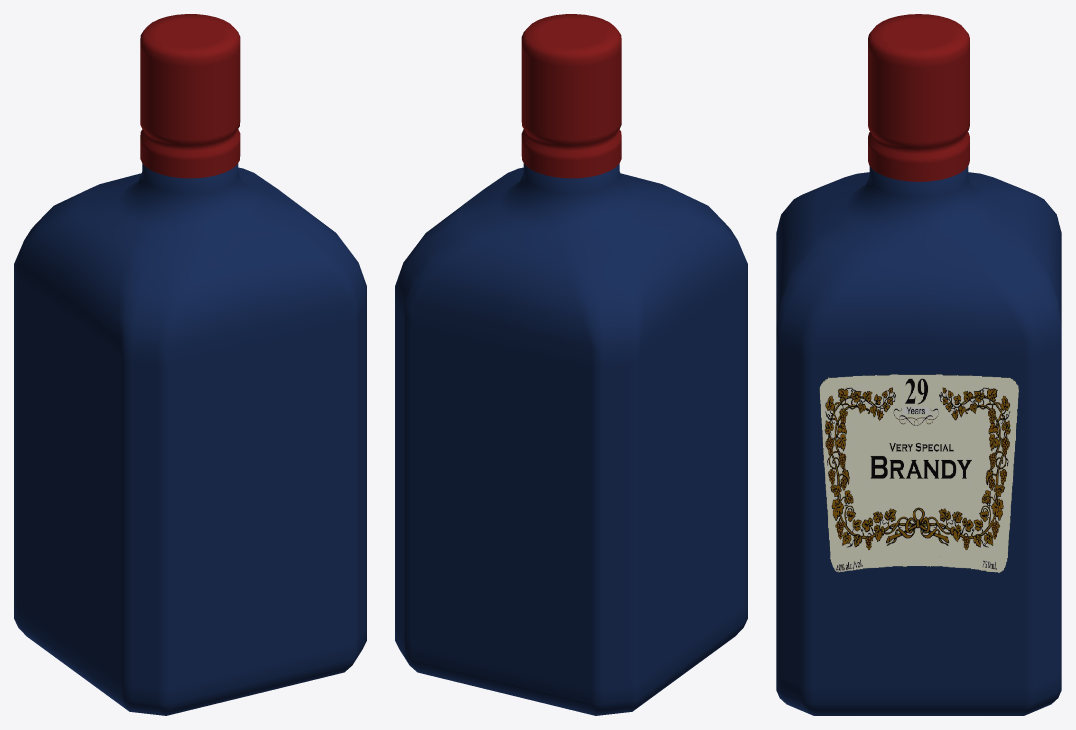
Rendered from Liqueur bottle 2.FBX.
3 renders of one model, left to right at view 1: azimuth 30°, elevation 25°; view 2: azimuth 150°, elevation 25°; view 3: azimuth 270°, elevation 25°, orthographic. The views are drawn at different scales.
Visible parts, largest first — view 1: liqueur bottle 2; view 2: liqueur bottle 2; view 3: liqueur bottle 2.
Part boxes in pixels (x1=…): liqueur bottle 2: x1=14, y1=14, x2=366, y2=715; liqueur bottle 2: x1=395, y1=14, x2=747, y2=715; liqueur bottle 2: x1=776, y1=14, x2=1061, y2=715.
Bounding box in the file's own units: 8.26 × 20.11 × 8.26.
Materials: 1 (1 with a texture image).
